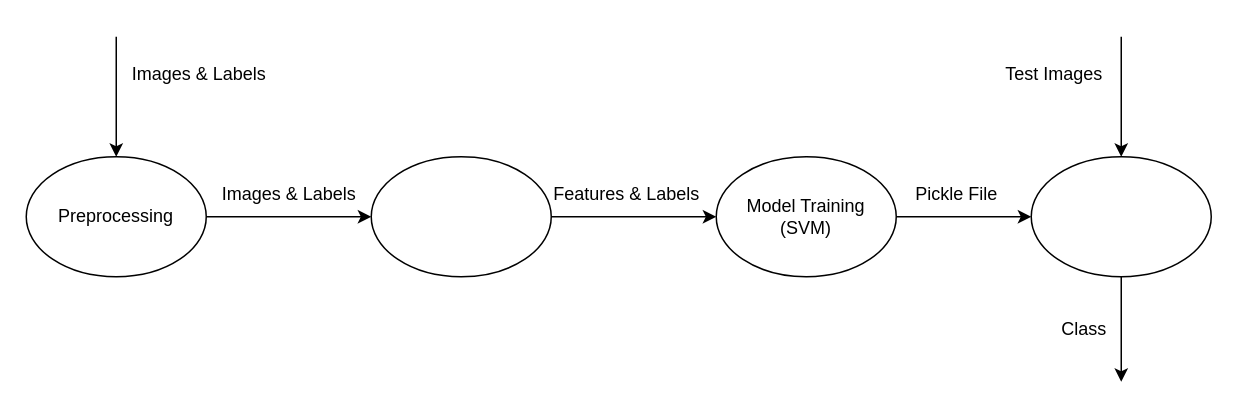
Image size: 1238x420. Some labels were removed from this diagram. The box of each missing label's shape, as (x1, y1, x2, y2) in pixels:
Classifier: (1030, 155, 1211, 277)
Features Extraction (HOG): (370, 155, 551, 277)
